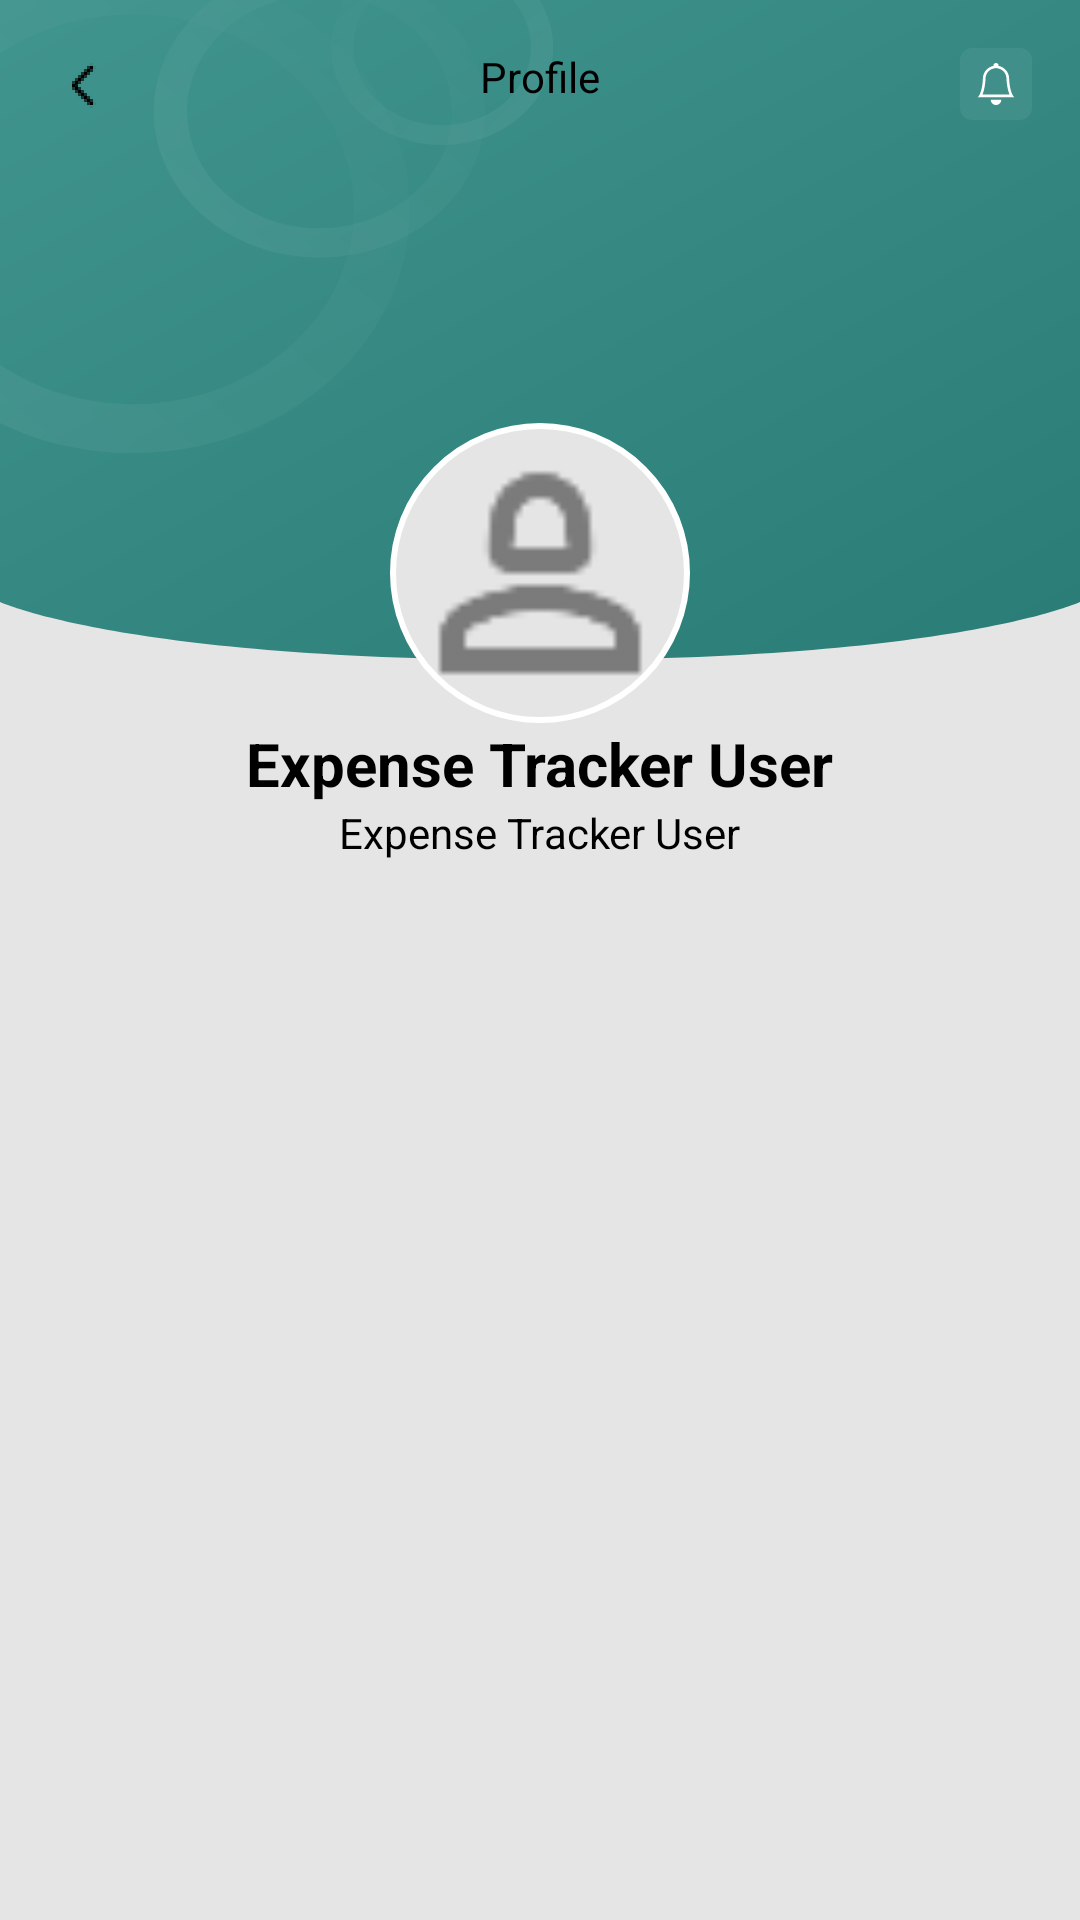

Icons on this 1080px×1920px Android screen, each with the point to tap as [x,y]:
Back: [82,85]
Notification: [996,84]
